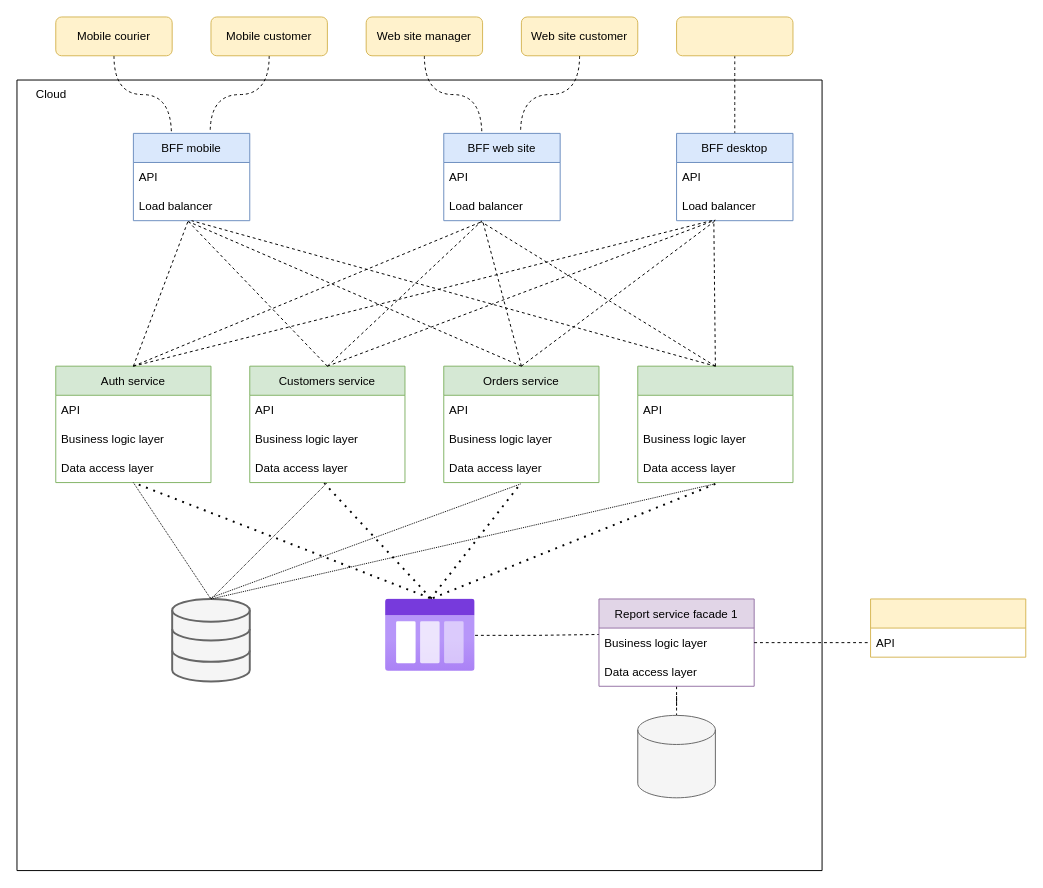
Some shapes in this 1043 by 888 pixel diagram are drawn without their labels. Each missing label, with the box of its shape:
Desktop app: (676, 16, 793, 56)
External report system 1: (870, 598, 1026, 657)
Items service: (637, 365, 793, 483)
MS SQL DB: (171, 598, 250, 682)
Report service facade 1 storage: (637, 714, 715, 798)
Reports message queue: (385, 598, 475, 671)
